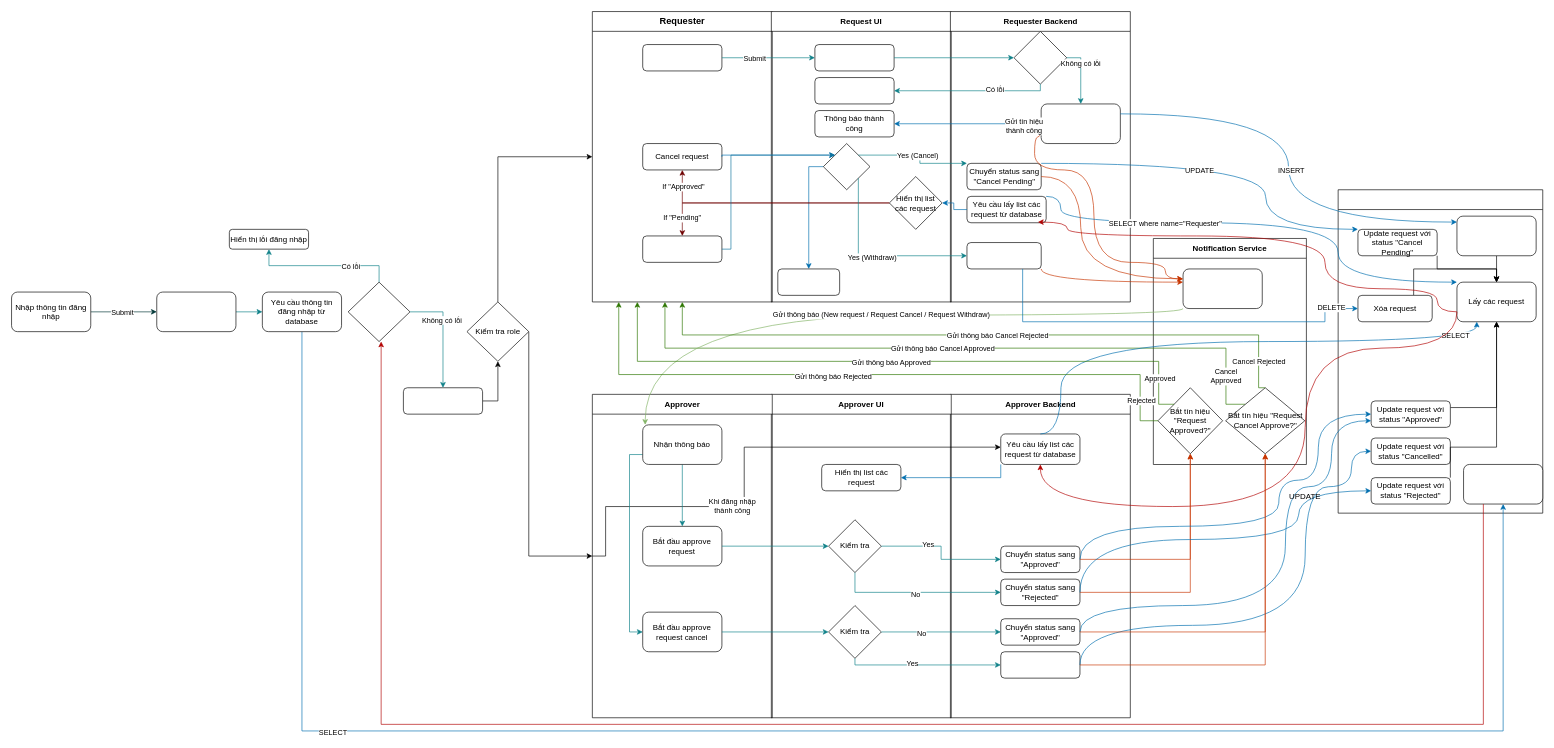
The diagram is 1554 pixels wide and 748 high, and some of its shapes have lost their labels. The box of each missing label's shape, as (x1, y1, x2, y2) in pixels:
Bắt tín hiệu: (1182, 268, 1262, 309)
Bắt đầu truyền request và thông báo: (1040, 103, 1120, 144)
Chuyển status sang "Cancelled": (1000, 651, 1080, 678)
Database: (1337, 189, 1543, 513)
Hiển thị Lỗi xác thực: (814, 77, 894, 104)
Hỏi xác nhận: (823, 143, 870, 190)
Hủy Cancel/Withdraw: (777, 268, 840, 295)
Kiểm tra thông tin đăng nhập: (347, 281, 410, 342)
Lưu request với status:"Pending": (1456, 215, 1536, 256)
Lấy thông tin đăng nhập: (1463, 464, 1543, 504)
Nhận request: (814, 44, 894, 71)
Nhận thông tin đăng nhập: (156, 291, 236, 332)
Nhập request xong nhấn "Gữi": (642, 44, 722, 71)
Thông báo đăng nhập thành công: (403, 387, 483, 414)
Withdraw request: (642, 235, 722, 262)
Xác thực request: (1013, 31, 1067, 84)
Yêu cầu xóa request: (966, 242, 1041, 269)
